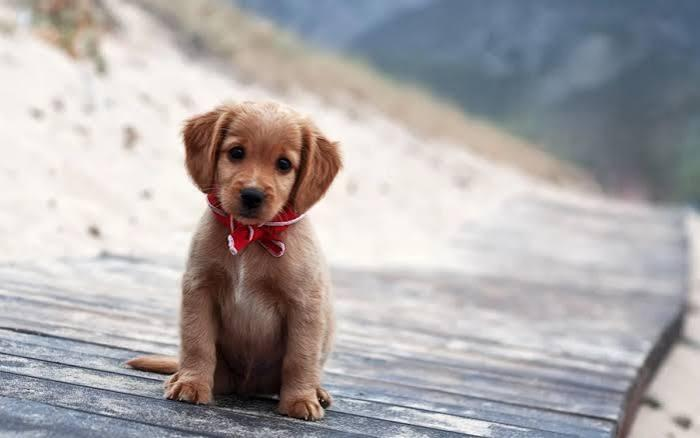puppy-dog: (124, 97, 342, 421)
